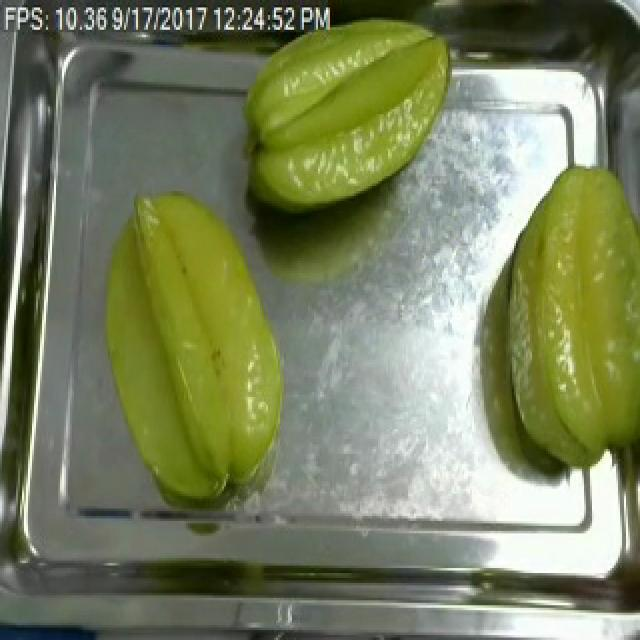fruit: (84, 176, 302, 514), (230, 5, 466, 221), (488, 151, 640, 479)
